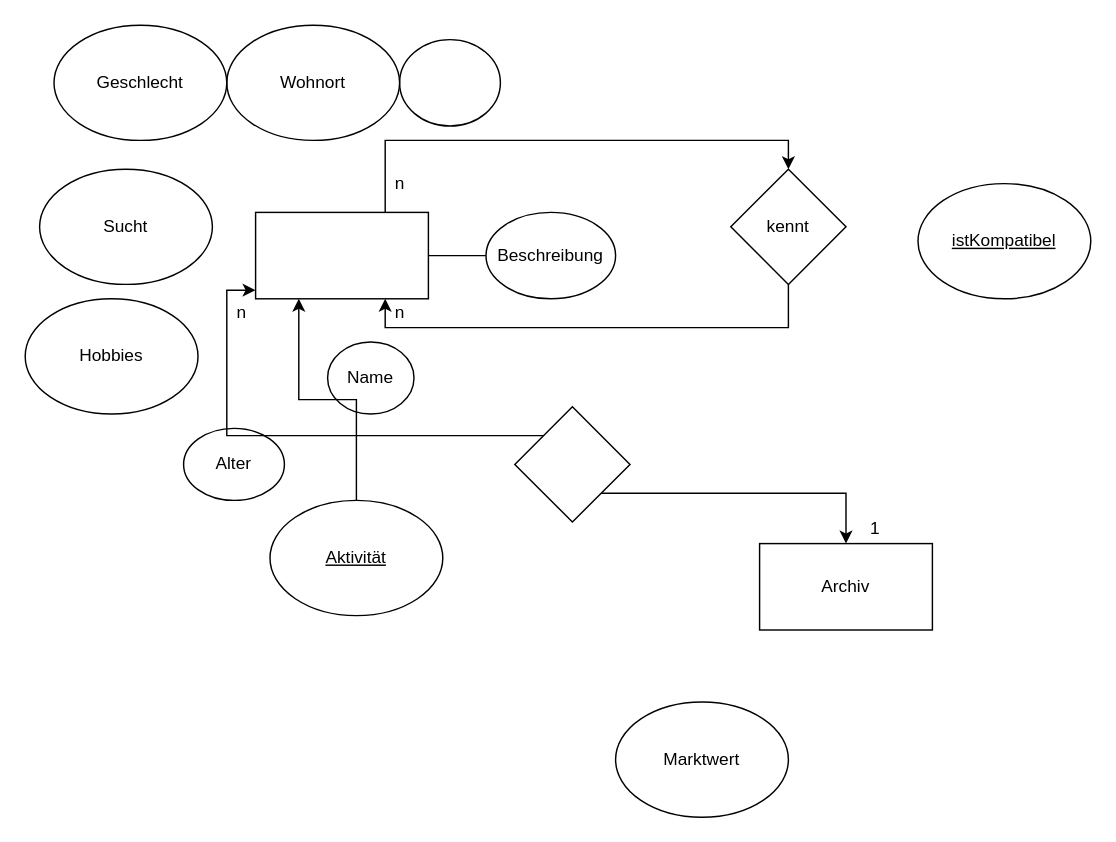
The diagram is 1116 pixels wide and 842 high, and some of its shapes have lost their labels. Each missing label, with the centre of its shape:
"User" belongs at point (341, 255).
"UserID" belongs at point (449, 82).
"wirdGespeichert" belongs at point (571, 463).
